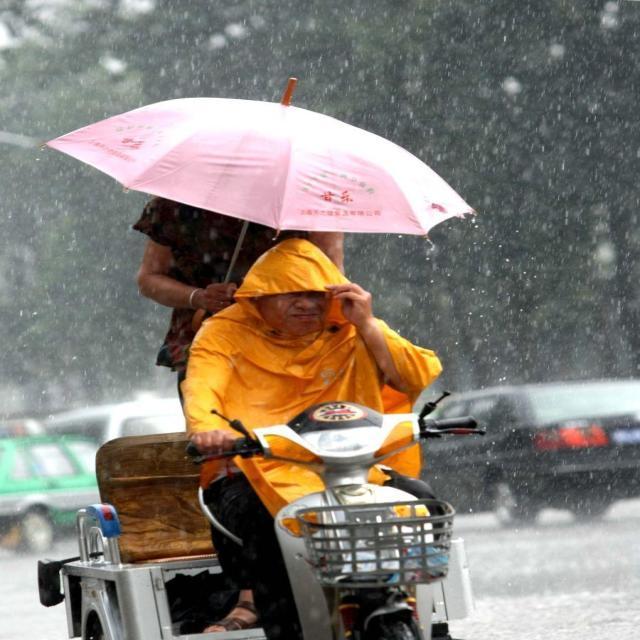car: (400, 380, 638, 526), (0, 436, 160, 557)
